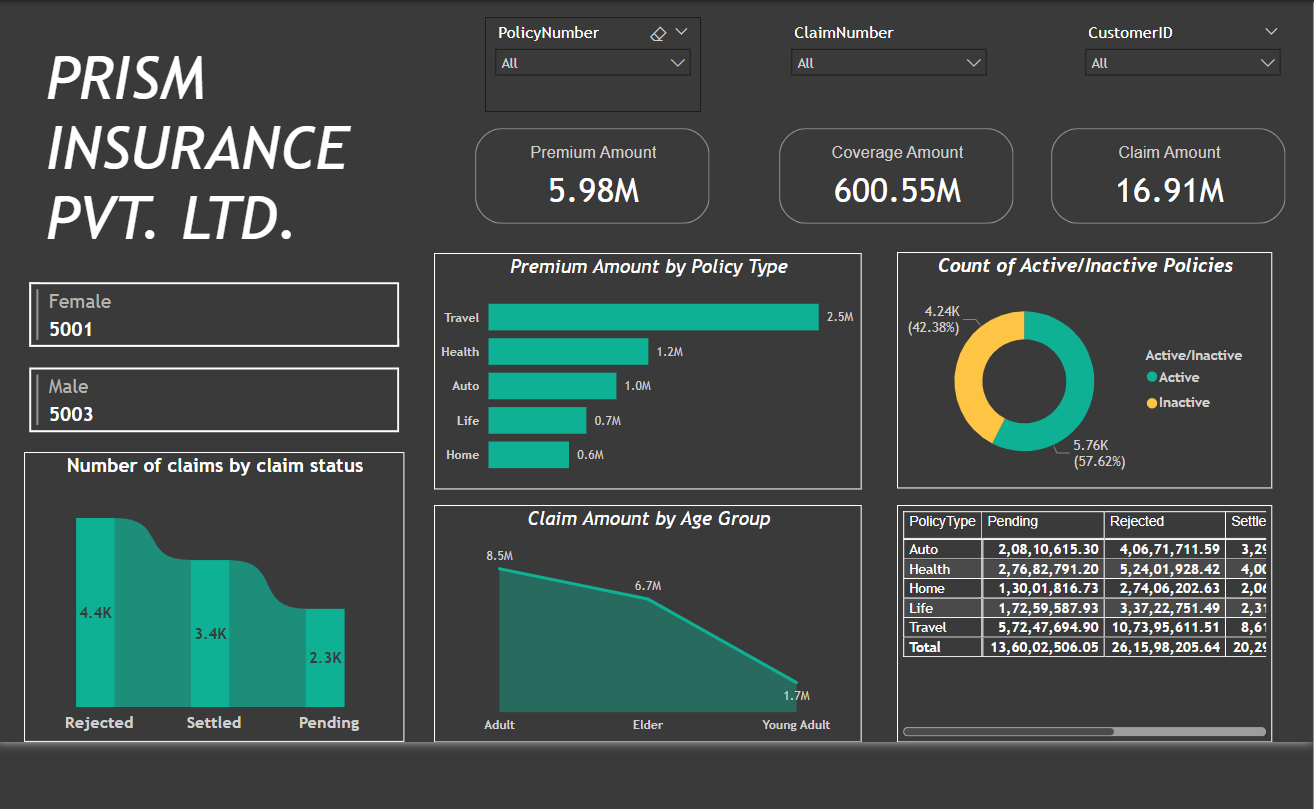

What the dashboard file says about the page in this screenshot:
{"tool":"powerbi","page":{"name":"Page 1","canvas":[1280,720],"ordinal":0},"visuals":[{"type":"slicer","fields":{"Values":["InsuranceData.PolicyNumber"]},"box":[474.7,14.6,210.1,92.4],"z":0},{"type":"slicer","fields":{"Values":["InsuranceData.ClaimNumber"]},"box":[762.6,14.6,210.1,92.4],"z":1000},{"type":"textbox","box":[42.8,34,359.9,293.7],"z":2000},{"type":"cardVisual","fields":{"Data":["Sum(InsuranceData.PremiumAmount)"]},"box":[460.1,117.7,238.3,103.1],"z":3000},{"type":"cardVisual","fields":{"Data":["Sum(InsuranceData.CoverageAmount)"]},"box":[755.7,117.7,238.3,103.1],"z":4000},{"type":"cardVisual","fields":{"Data":["Sum(InsuranceData.ClaimAmount)"]},"box":[1020.3,117.7,238.3,103.1],"z":5000},{"type":"multiRowCard","fields":{"Values":["InsuranceData.Gender","CountNonNull(InsuranceData.Gender)"]},"box":[26.3,267.5,369.6,179.9],"z":6000},{"type":"slicer","fields":{"Values":["InsuranceData.CustomerID"]},"box":[1048.5,14.6,210.1,92.4],"z":7000},{"type":"ribbonChart","title":"Number of claims by claim status","fields":{"Category":["InsuranceData.ClaimStatus"],"Y":["CountNonNull(InsuranceData.ClaimStatus)"]},"box":[26.3,437.7,369.6,282.1],"z":8000},{"type":"barChart","title":"Premium Amount by Policy Type","fields":{"Y":["Sum(InsuranceData.PremiumAmount)"],"Category":["InsuranceData.PolicyType"]},"box":[425,244.1,416.3,229.5],"z":9000},{"type":"lineChart","title":"Claim Amount by Age Group","fields":{"Category":["InsuranceData.Age Group"],"Y":["Sum(InsuranceData.ClaimAmount)"]},"box":[425,489.2,416.3,230.5],"z":10000},{"type":"donutChart","title":"Count of Active/Inactive Policies","fields":{"Category":["InsuranceData.Active/Inactive"],"Y":["CountNonNull(InsuranceData.Active/Inactive)"]},"box":[875.4,243.2,364.7,229.5],"z":11000},{"type":"pivotTable","fields":{"Rows":["InsuranceData.PolicyType"],"Columns":["InsuranceData.ClaimStatus"],"Values":["Sum(InsuranceData.CoverageAmount)"]},"box":[875.4,489.2,364.7,230.5],"z":12000}]}

Visuals, with their boxes on the page's 1280x720 design canvas (x1, y1, x2, y2). These are canvas units, not pixel positions in the 1314x809 screenshot, which may show the page scaled, cropped or inside an application window:
slicer - InsuranceData.PolicyNumber: locate(475, 15, 685, 107)
slicer - InsuranceData.ClaimNumber: locate(763, 15, 973, 107)
textbox: locate(43, 34, 403, 328)
cardVisual - Sum(InsuranceData.PremiumAmount): locate(460, 118, 698, 221)
cardVisual - Sum(InsuranceData.CoverageAmount): locate(756, 118, 994, 221)
cardVisual - Sum(InsuranceData.ClaimAmount): locate(1020, 118, 1259, 221)
multiRowCard - InsuranceData.Gender x CountNonNull(InsuranceData.Gender): locate(26, 268, 396, 447)
slicer - InsuranceData.CustomerID: locate(1048, 15, 1259, 107)
"Number of claims by claim status" ribbonChart: locate(26, 438, 396, 720)
"Premium Amount by Policy Type" barChart: locate(425, 244, 841, 474)
"Claim Amount by Age Group" lineChart: locate(425, 489, 841, 720)
"Count of Active/Inactive Policies" donutChart: locate(875, 243, 1240, 473)
pivotTable - InsuranceData.PolicyType x InsuranceData.ClaimStatus: locate(875, 489, 1240, 720)
